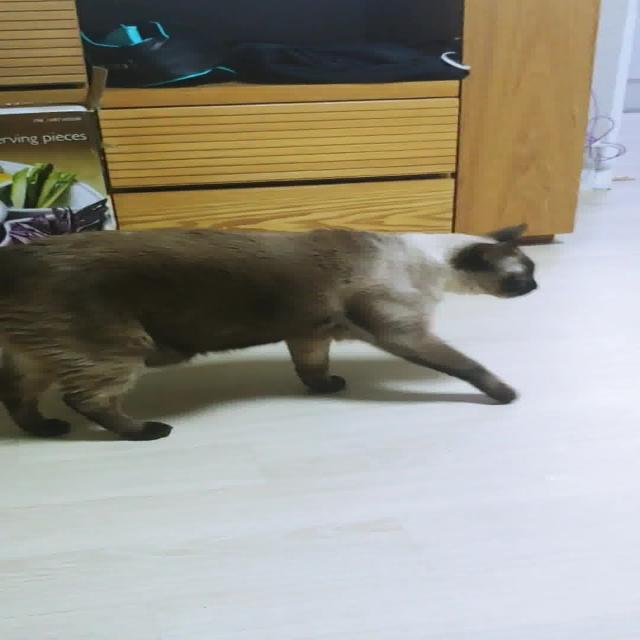cat: (0, 212, 598, 445)
